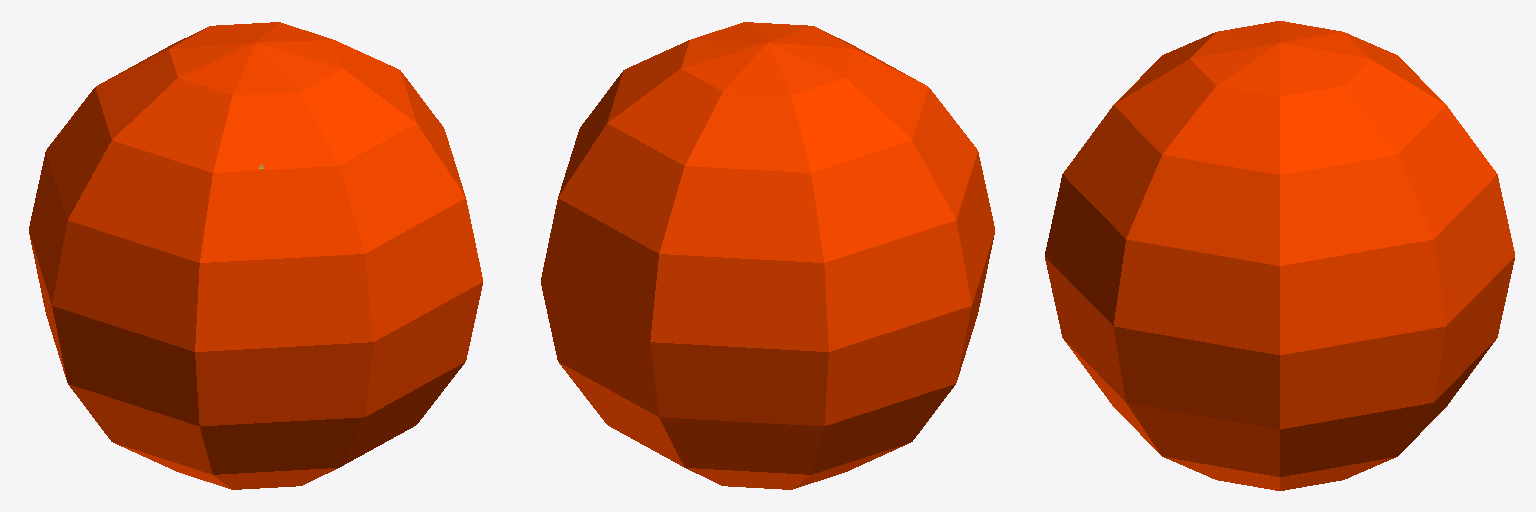
3 views of the same model, side by side, from view 1: azimuth 30°, elevation 25°; view 2: azimuth 150°, elevation 25°; view 3: azimuth 270°, elevation 25° (orthographic).
Parts seen in each view (by area): view 1: Joint_Sphere.003; view 2: Joint_Sphere.003; view 3: Joint_Sphere.003.
Part boxes in pixels (bbox=[...]): Joint_Sphere.003: bbox=[29, 22, 482, 489]; Joint_Sphere.003: bbox=[541, 22, 994, 489]; Joint_Sphere.003: bbox=[1045, 21, 1514, 490].
Bounding box in the file's own units: 0.4 × 0.4 × 0.4.
1 materials, 1 textured.